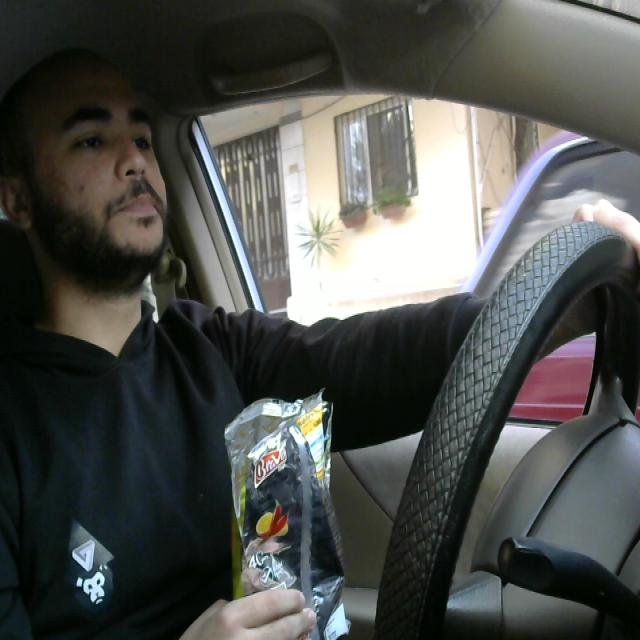eating: (220, 386, 354, 640)
